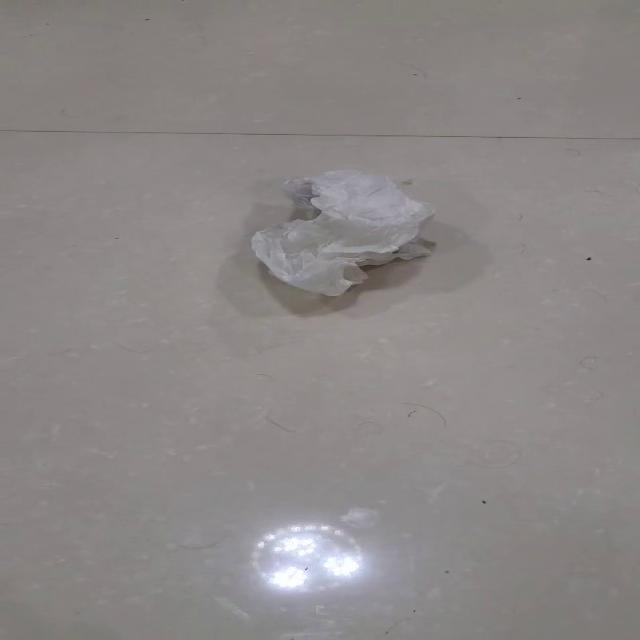plastic: (249, 168, 435, 297)
